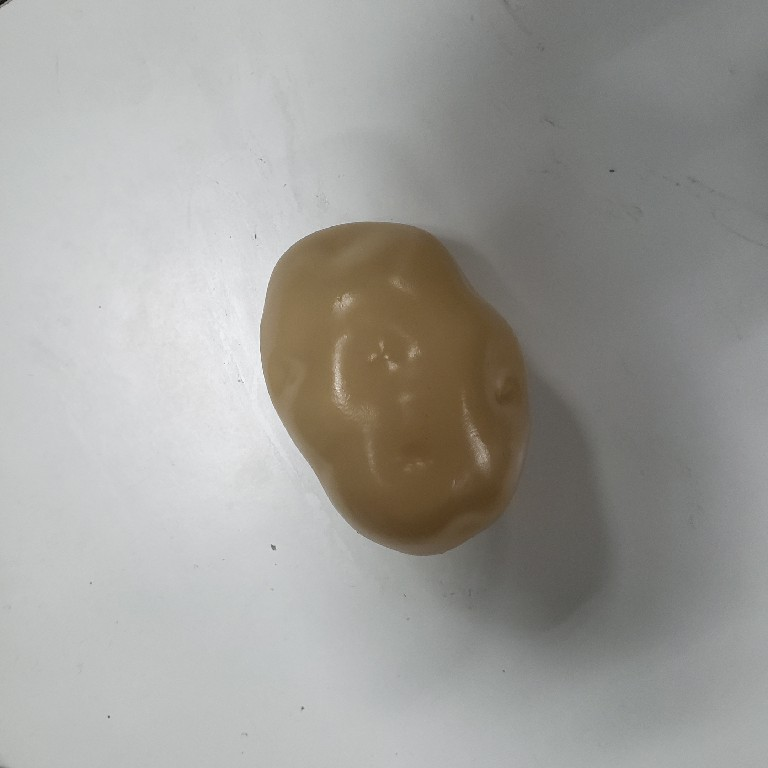fruit_potato: (253, 218, 541, 565)
